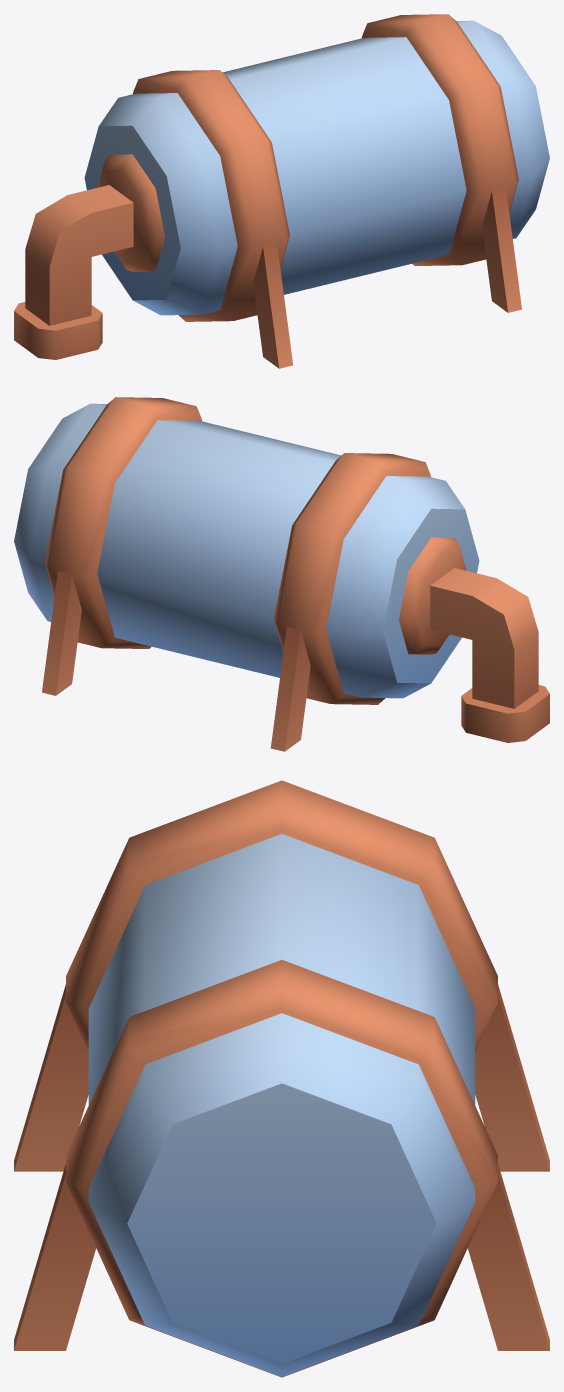
Rendered from detail-tank.glb.
3 renders of one model, top to bottom at view 1: azimuth 30°, elevation 25°; view 2: azimuth 150°, elevation 25°; view 3: azimuth 270°, elevation 25°, orthographic. The views are drawn at different scales.
Parts seen in each view (by area): view 1: detail-tank; view 2: detail-tank; view 3: detail-tank.
Boxes of the visible parts, x1=… form: detail-tank: x1=14, y1=14, x2=549, y2=368; detail-tank: x1=14, y1=397, x2=549, y2=751; detail-tank: x1=14, y1=780, x2=549, y2=1377.
Size of the model in its own units: 0.848 by 0.4153 by 0.5153.
Materials: 1 (1 with a texture image).
